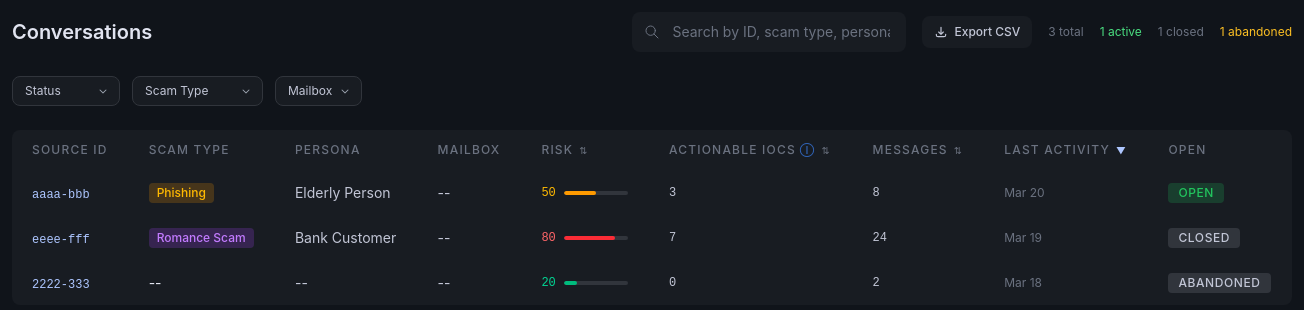
it: Conversations page — coverage gaps › filters by search query matching persona display name
Expected: the link "aaaa-bbb" is shown, x1=32 y1=188 x2=90 y2=202
Type "Elderly" into the field named "Search conversations" at (770, 32), box x1=632 y1=12 x2=906 y2=52
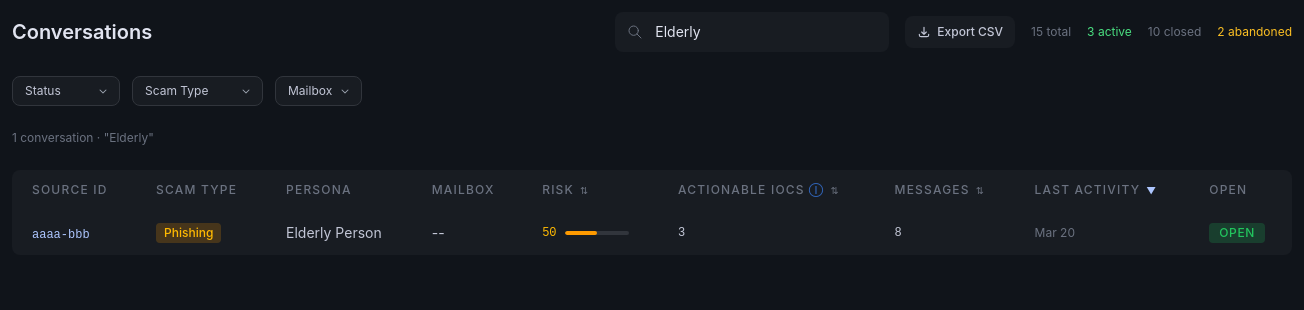
Expected: the link "aaaa-bbb" is shown, x1=32 y1=228 x2=90 y2=242
Expected: the link "eeee-fff" is gone
